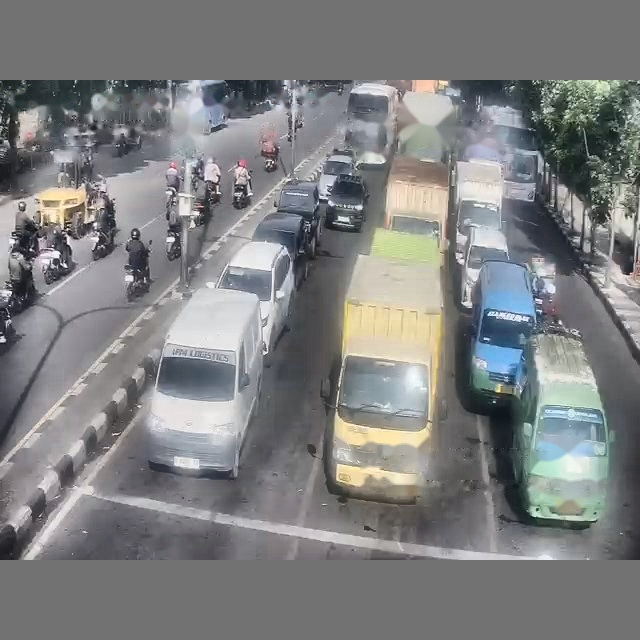Bis: (483, 106, 540, 202), (175, 80, 229, 133)
Mobil: (217, 241, 294, 358), (252, 212, 308, 289), (274, 179, 322, 259), (325, 174, 368, 231), (318, 152, 356, 201)
Motor: (2, 276, 36, 314), (40, 247, 71, 284), (124, 264, 149, 301), (91, 222, 113, 260), (0, 289, 14, 343), (165, 229, 180, 261), (232, 183, 249, 209), (205, 181, 220, 207), (165, 187, 177, 219)
Truk: (321, 255, 446, 502), (383, 156, 449, 260), (455, 160, 503, 263)
